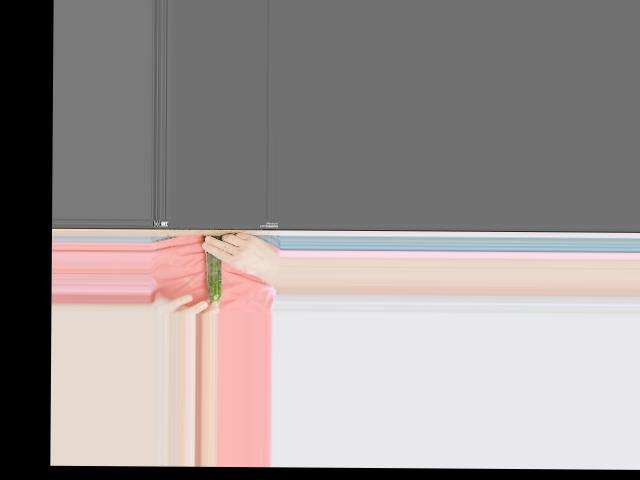cucumber: (206, 251, 222, 302)
